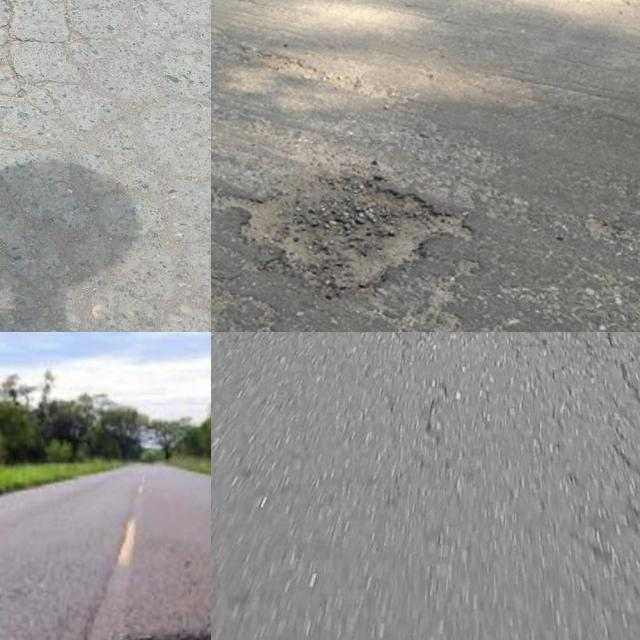Lubang: (229, 162, 464, 290)
Retak Buaya: (0, 0, 211, 156)
